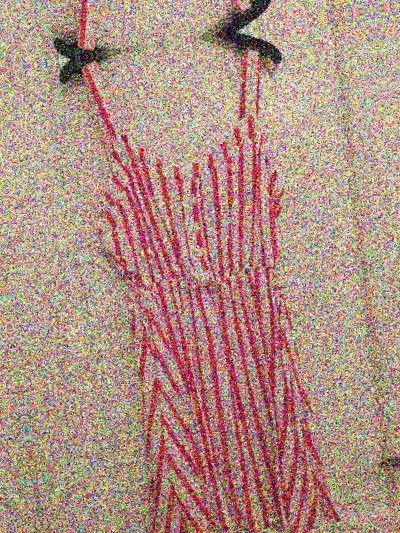Dress: (45, 43, 379, 533), (0, 0, 293, 43)
